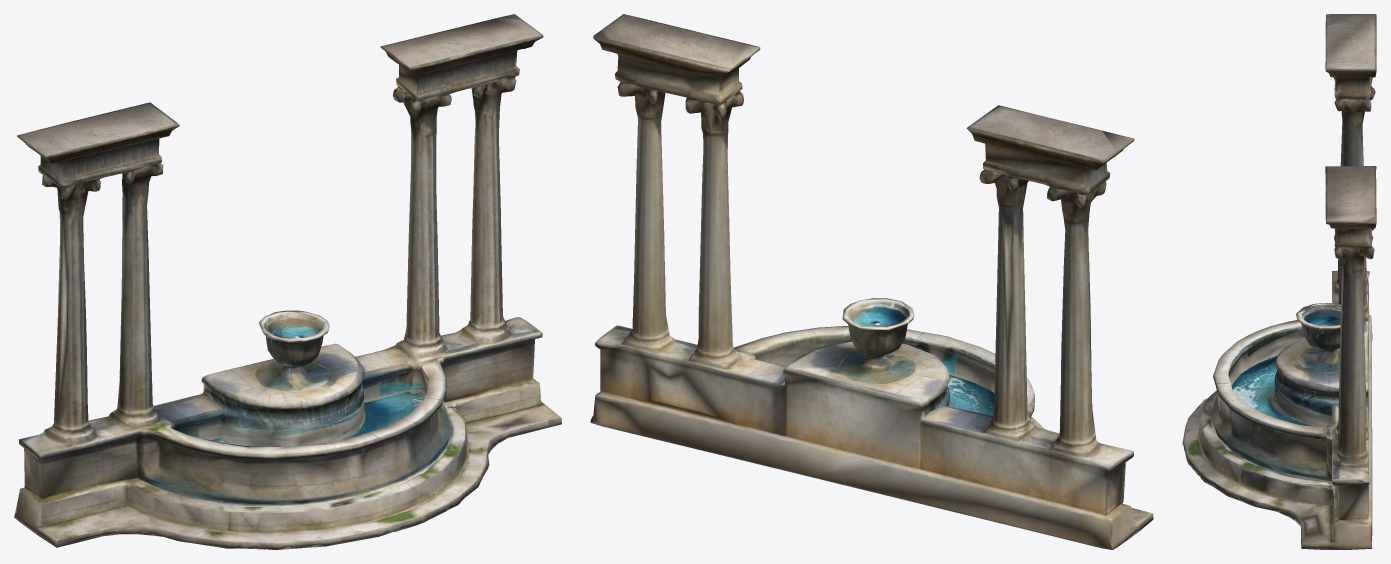
Rendered from fountain_temple.glb.
3 renders of one model, left to right at view 1: azimuth 30°, elevation 25°; view 2: azimuth 150°, elevation 25°; view 3: azimuth 270°, elevation 25°, orthographic. The views are drawn at different scales.
Visible parts, largest first — view 1: fountain_temple; view 2: fountain_temple; view 3: fountain_temple.
Boxes of the visible parts, <box> form: fountain_temple: <box>14,14,561,549</box>; fountain_temple: <box>590,14,1153,549</box>; fountain_temple: <box>1182,14,1376,549</box>.
Bounding box in the file's own units: 2 × 1.43 × 0.7697.
1 material, 1 textured.
